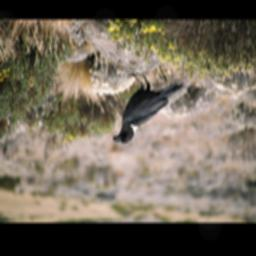Crow: (111, 70, 186, 146)
